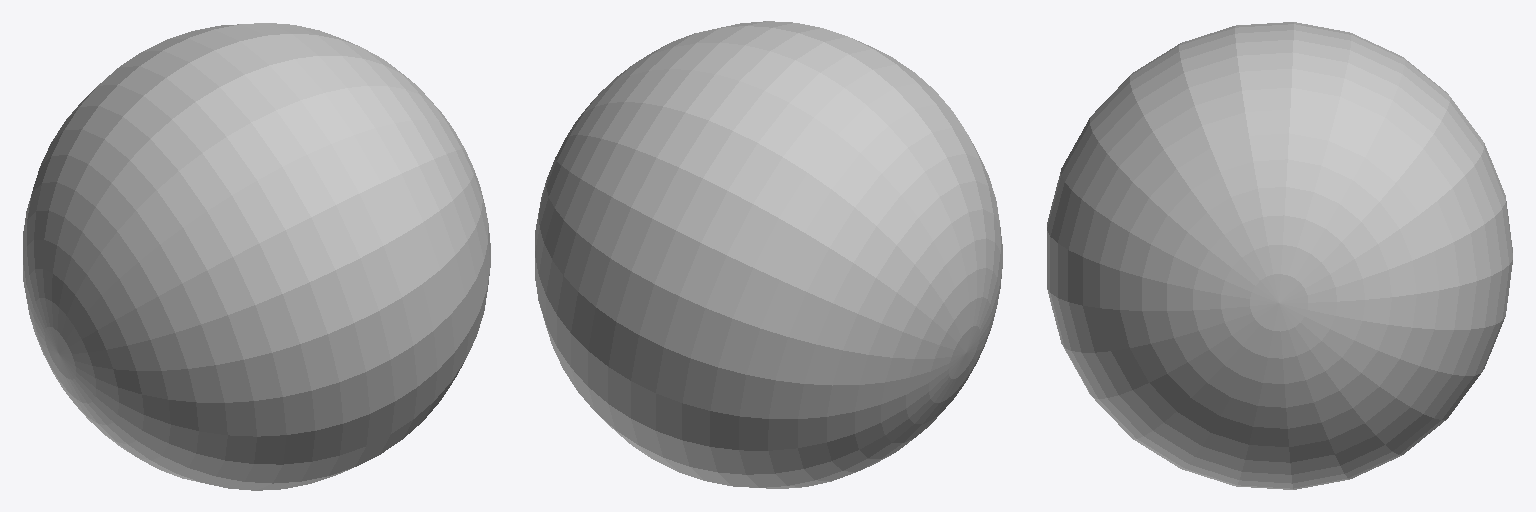
The model's file is CubeWITHAnim0001.obj.
3 views of the same model, side by side, from view 1: azimuth 30°, elevation 25°; view 2: azimuth 150°, elevation 25°; view 3: azimuth 270°, elevation 25° (orthographic).
Parts seen in each view (by area): view 1: NEWJumpBall_Sphere; view 2: NEWJumpBall_Sphere; view 3: NEWJumpBall_Sphere.
Boxes of the visible parts, box(x1,y1,x2,y2) form: NEWJumpBall_Sphere: box(23, 23, 490, 490); NEWJumpBall_Sphere: box(535, 21, 1002, 488); NEWJumpBall_Sphere: box(1047, 22, 1512, 489).
Size of the model in its own units: 2 by 1.99 by 1.99.